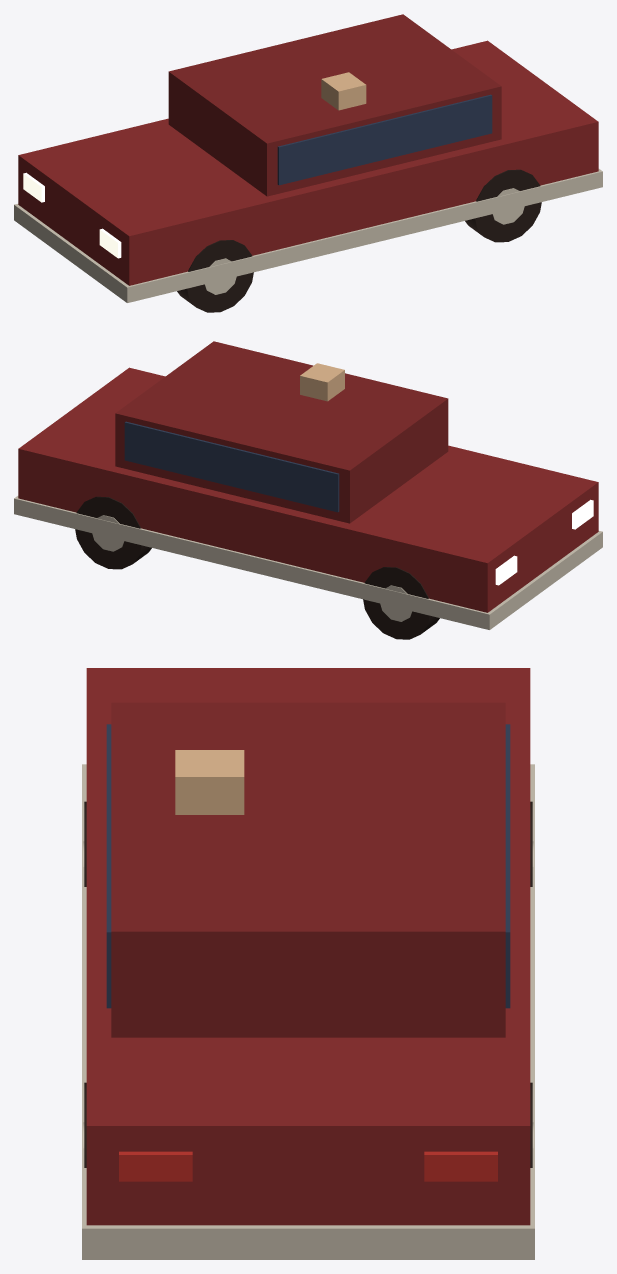
File: traffic_1.glb
3 views of the same model, one above another, from view 1: azimuth 30°, elevation 25°; view 2: azimuth 150°, elevation 25°; view 3: azimuth 270°, elevation 25° (orthographic). The views are drawn at different scales.
Visible parts, largest first — view 1: Box1, Box2, Box4, Box3, Part2, Part4, Box10, Box7, Box5; view 2: Box1, Box2, Box4, Box3, Part1, Part3, Box10, Box5, Box7; view 3: Box2, Box1, Box4, Box10, Box3, Box6, Box8.
Part boxes in pixels (x1,y1,x2,y2): Box1: [18, 40, 598, 285]; Box2: [168, 14, 501, 196]; Box4: [14, 169, 602, 302]; Box3: [277, 94, 492, 185]; Part2: [465, 169, 541, 242]; Part4: [177, 240, 253, 312]; Box10: [321, 72, 366, 110]; Box7: [99, 228, 121, 258]; Box5: [23, 172, 44, 202]; Box1: [18, 367, 598, 612]; Box2: [115, 341, 448, 523]; Box4: [14, 496, 602, 629]; Box3: [124, 421, 339, 512]; Part1: [75, 496, 151, 569]; Part3: [363, 567, 439, 639]; Box10: [300, 363, 344, 401]; Box5: [495, 555, 517, 585]; Box7: [572, 499, 593, 529]; Box2: [111, 702, 505, 1037]; Box1: [86, 668, 530, 1225]; Box4: [82, 764, 534, 1259]; Box10: [175, 750, 244, 814]; Box3: [106, 724, 510, 1008]; Box6: [424, 1151, 497, 1181]; Box8: [119, 1151, 192, 1181].
Size of the model in its own units: 4.46 by 1.52 by 1.84.
